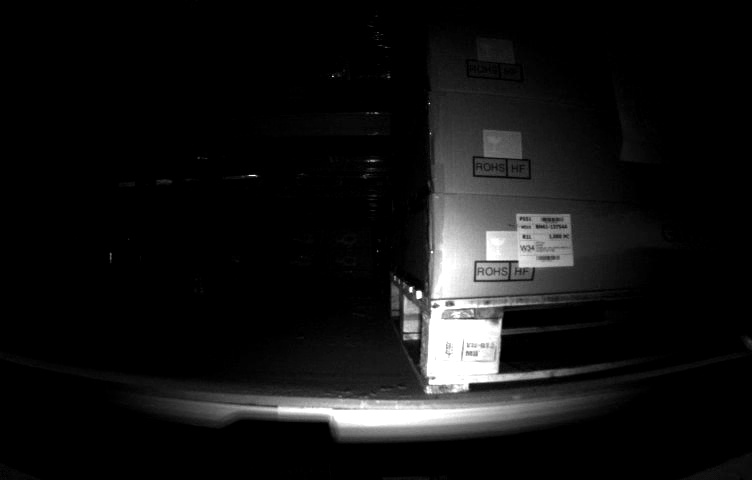True Barcode: (513, 207, 578, 273)
